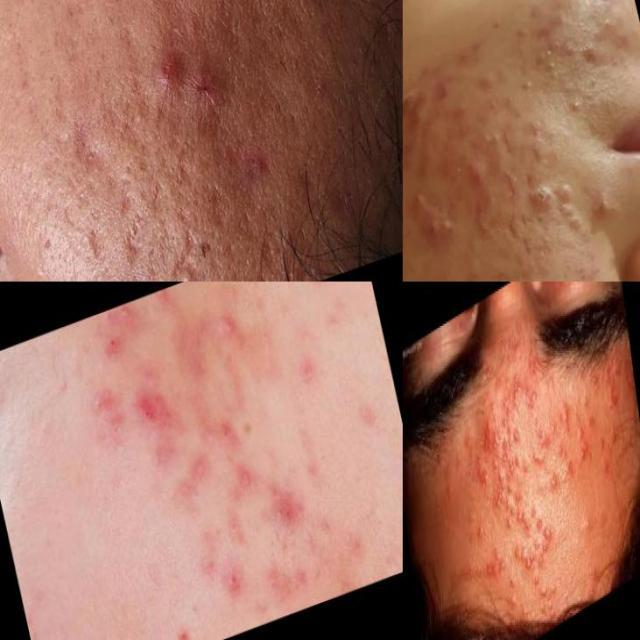Pimples: (160, 32, 271, 166), (106, 180, 158, 270), (62, 104, 113, 180), (256, 460, 306, 534), (190, 173, 244, 241), (137, 33, 185, 109), (408, 176, 456, 252), (129, 373, 181, 436), (441, 142, 490, 206), (72, 208, 116, 272), (518, 112, 562, 170), (219, 546, 257, 604), (518, 170, 556, 220), (592, 176, 632, 222), (403, 84, 437, 138), (554, 199, 589, 244), (469, 202, 506, 242), (212, 299, 248, 340), (216, 402, 246, 449), (116, 297, 150, 338), (552, 169, 582, 210), (231, 458, 257, 498), (451, 36, 486, 64), (496, 164, 521, 199), (528, 561, 546, 598), (575, 434, 593, 470), (502, 490, 518, 530), (508, 371, 524, 408), (504, 449, 521, 482), (481, 551, 497, 586), (524, 382, 541, 414), (508, 476, 524, 510), (432, 80, 452, 106), (608, 382, 622, 416), (533, 507, 547, 540), (534, 422, 548, 454), (596, 426, 610, 458), (542, 520, 556, 550), (480, 464, 493, 496), (486, 430, 500, 459), (490, 487, 505, 514), (520, 516, 534, 544), (489, 453, 502, 482), (575, 418, 588, 447), (522, 548, 535, 576), (559, 401, 572, 426), (512, 424, 524, 451), (548, 418, 560, 444), (583, 408, 595, 432), (474, 449, 486, 473), (510, 542, 521, 568)
